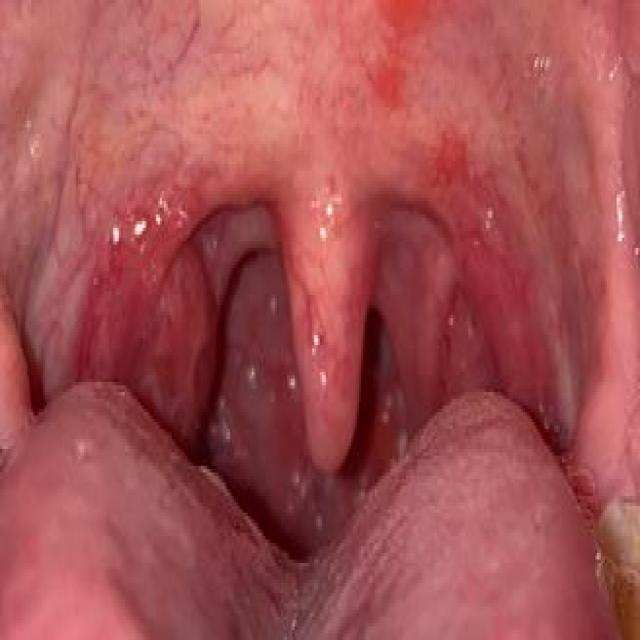Non Pharyngitis: (401, 228, 514, 421), (139, 232, 228, 461)
